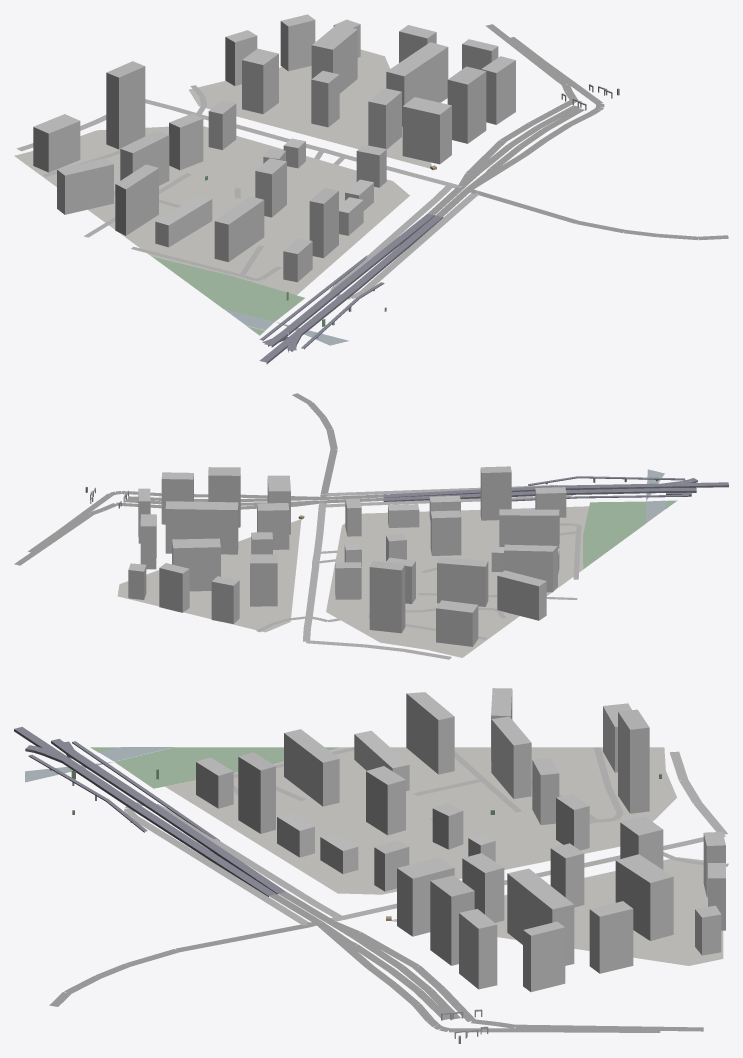
The picture shows the model from 3 angles, top to bottom: view 1: azimuth 30°, elevation 25°; view 2: azimuth 150°, elevation 25°; view 3: azimuth 270°, elevation 25°; orthographic projection. The views are drawn at different scales.
Bounding box in the file's own units: 530 × 68.78 × 512.
